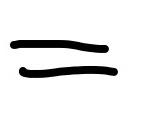eqv: (6, 33, 120, 83)
